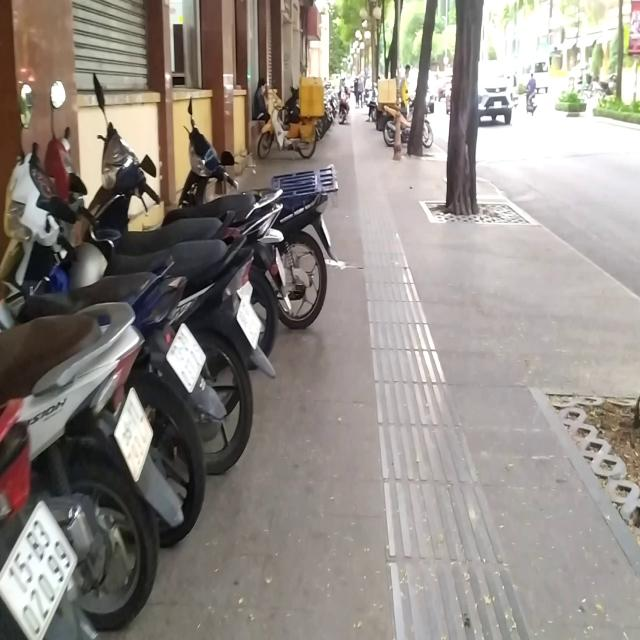bien_trang: (0, 489, 81, 640)
